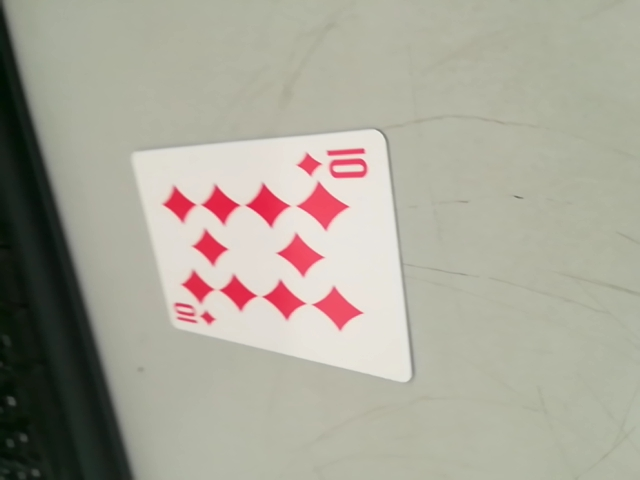fk 10: (297, 140, 372, 185), (169, 299, 221, 333)
